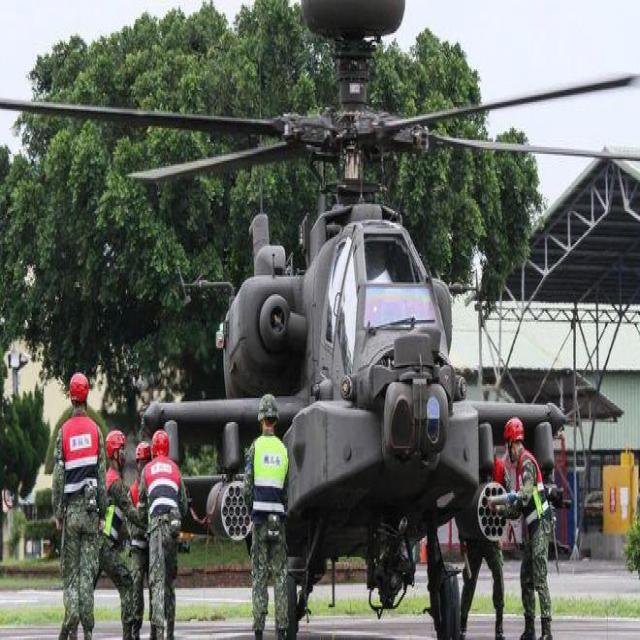MIL_HELO: (0, 5, 623, 640)
